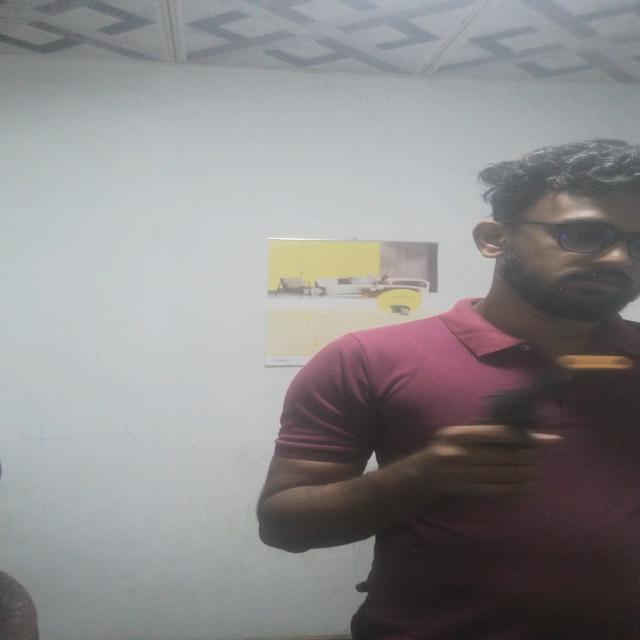Gun_Holder: (425, 350, 633, 497)
Person: (265, 135, 640, 640)
